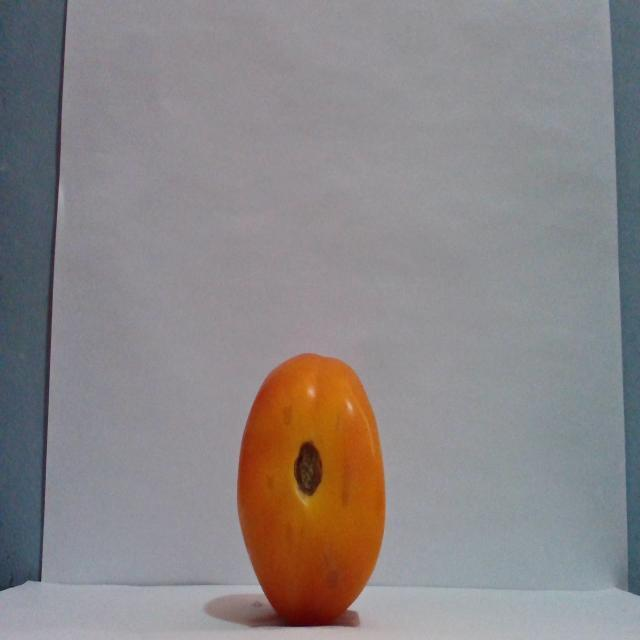Red: (235, 351, 387, 624)
